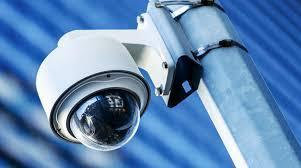maru: (34, 33, 151, 156)
